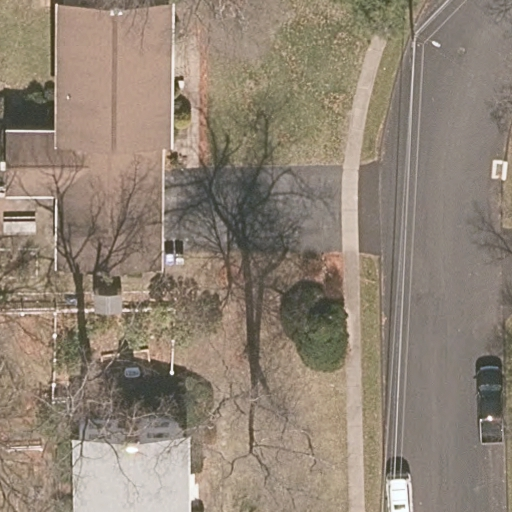DT: (409, 23, 441, 50)
